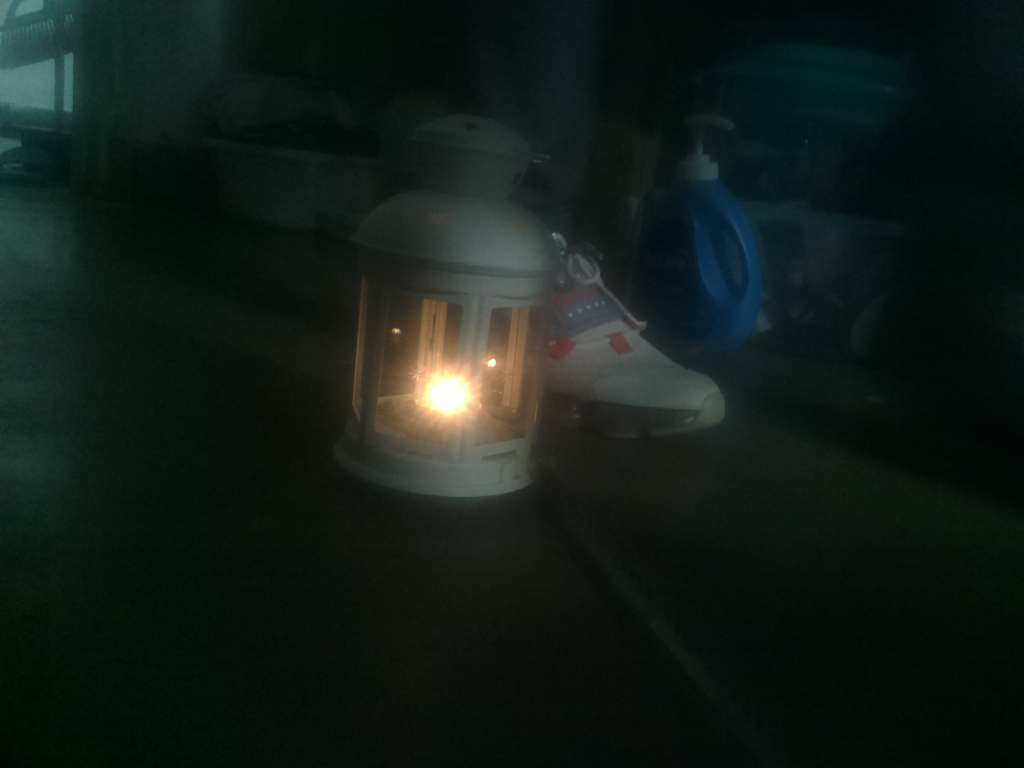fire: (399, 352, 505, 435)
